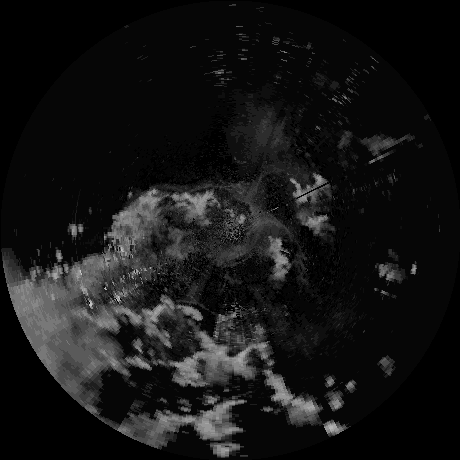frontgust: (269, 221, 301, 253), (178, 301, 219, 316), (187, 181, 233, 192)
